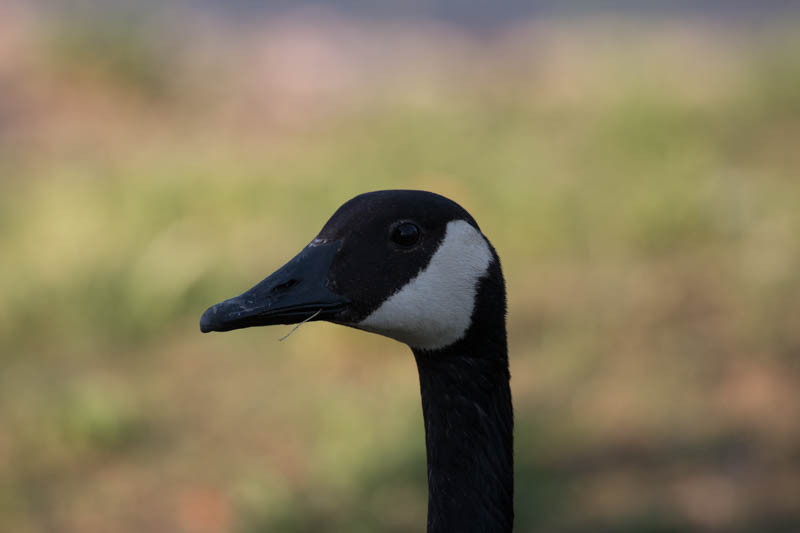goose-head: (199, 190, 507, 352)
